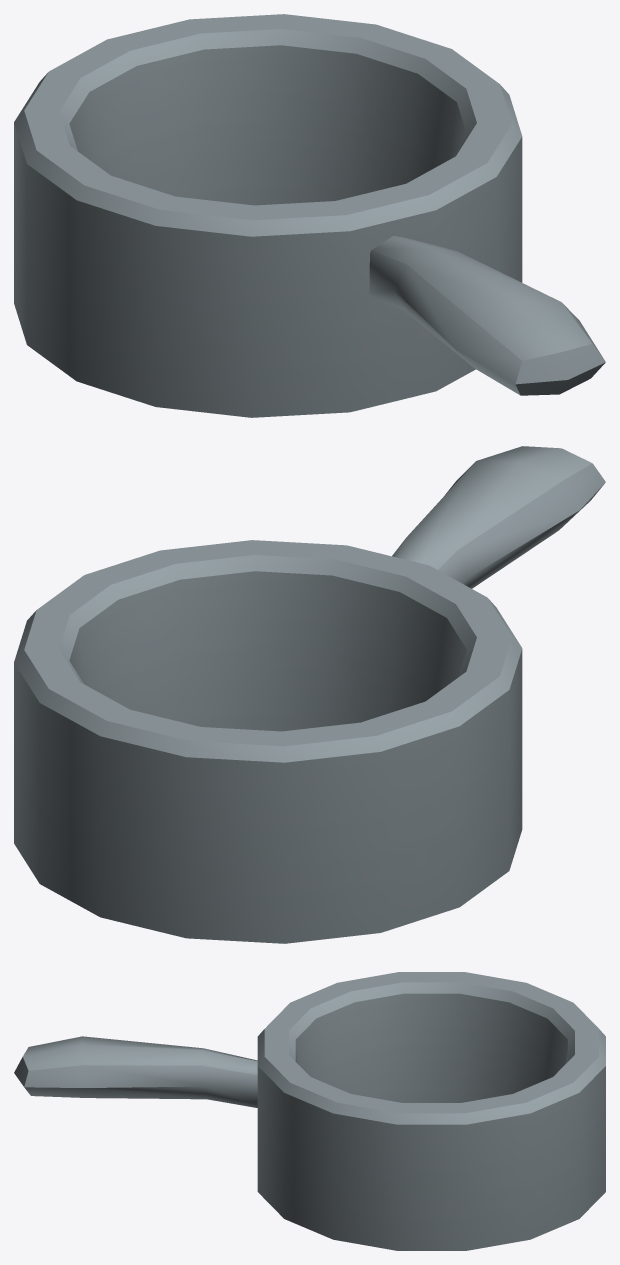
File: kay-pan_006.glb
The picture shows the model from 3 angles, top to bottom: view 1: azimuth 30°, elevation 25°; view 2: azimuth 150°, elevation 25°; view 3: azimuth 270°, elevation 25°; orthographic projection. The views are drawn at different scales.
Visible parts, largest first — view 1: pan.006; view 2: pan.006; view 3: pan.006.
Boxes of the visible parts, x1=… form: pan.006: x1=14, y1=14, x2=605, y2=417; pan.006: x1=14, y1=446, x2=605, y2=943; pan.006: x1=14, y1=972, x2=605, y2=1250.
Bounding box in the file's own units: 0.1294 × 0.0604 × 0.22.
Materials: 1 (1 with a texture image).
